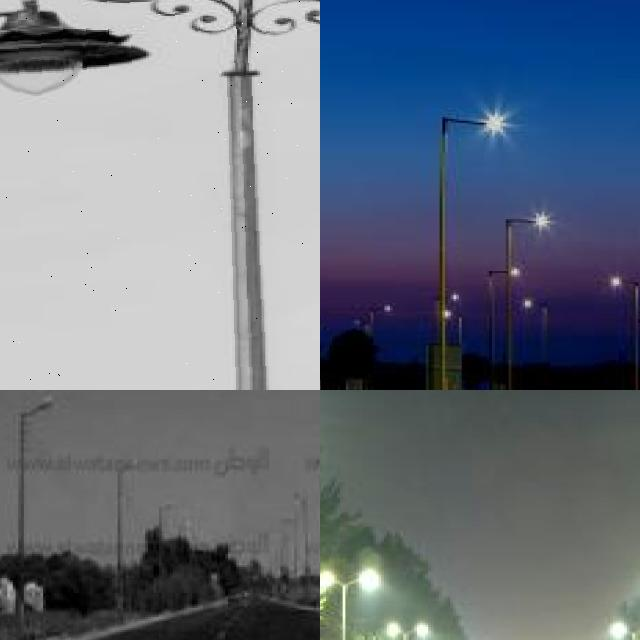street light: (0, 0, 320, 390), (439, 113, 504, 390), (12, 398, 56, 604), (505, 215, 554, 390), (320, 571, 382, 640), (115, 459, 142, 608), (489, 267, 518, 390), (610, 276, 640, 390), (434, 291, 459, 390), (522, 300, 547, 390), (370, 304, 391, 390), (445, 308, 464, 390), (354, 321, 370, 390)
